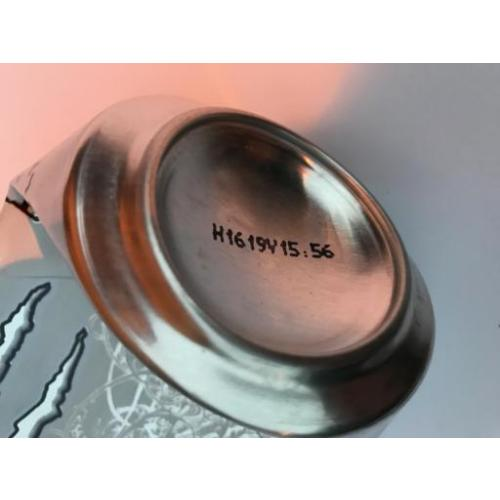metal: (3, 99, 433, 436)
